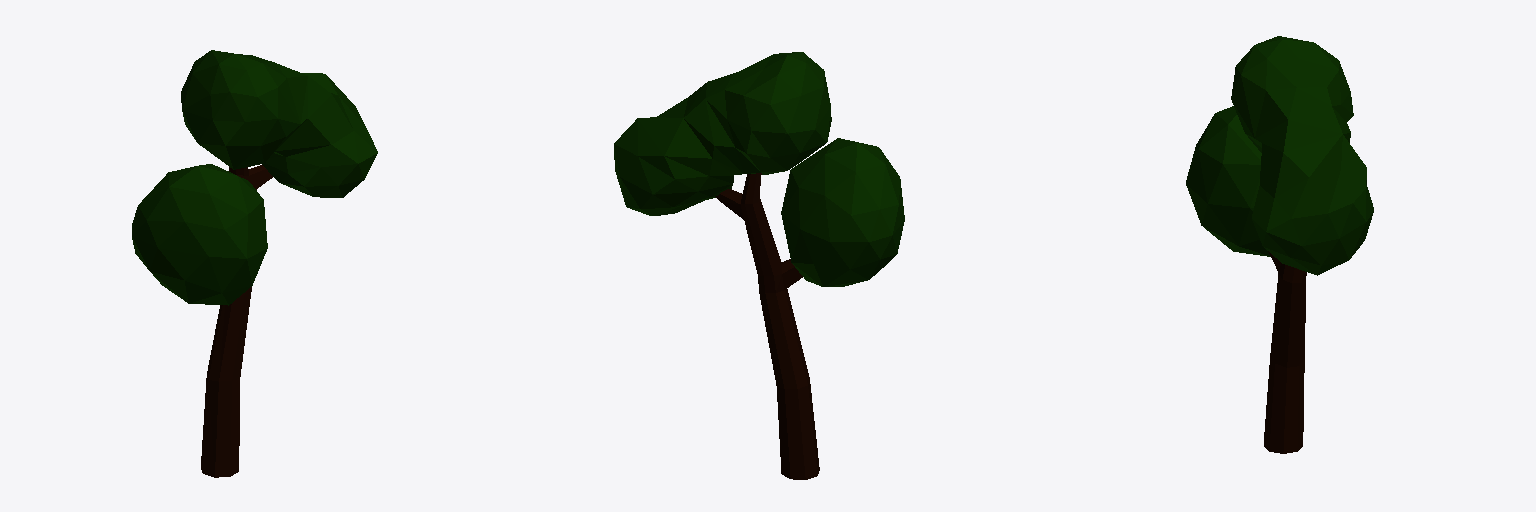
Rendered from Arbusto_sin_nieve.obj.
The picture shows the model from 3 angles: view 1: azimuth 30°, elevation 25°; view 2: azimuth 150°, elevation 25°; view 3: azimuth 270°, elevation 25°; orthographic projection.
Visible parts, largest first — view 1: Object003; view 2: Object003; view 3: Object003.
Boxes of the visible parts, box(x1,y1,x2,y2) form: Object003: box(132, 50, 377, 477); Object003: box(614, 52, 904, 479); Object003: box(1186, 36, 1373, 453).
Size of the model in its own units: 38.12 by 60.42 by 25.05.